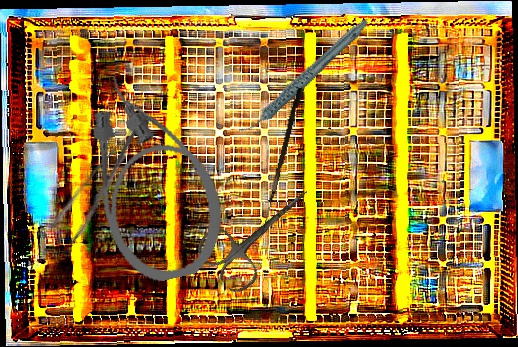Cannula: (75, 59, 235, 291)
Dressing Forceps: (46, 112, 167, 247)
Handpiece: (220, 17, 387, 136)
Hook Surgical: (261, 86, 304, 237)
Iris Scissors: (192, 166, 330, 298)
